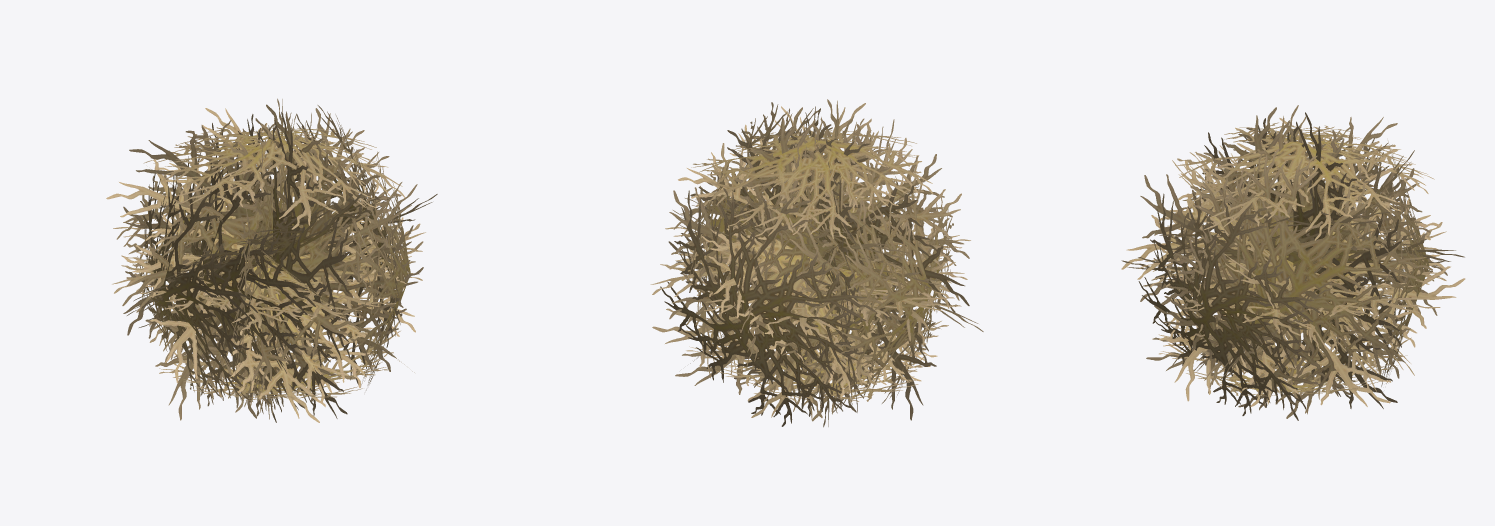
File: tumbleweed.fbx
The picture shows the model from 3 angles, left to right: view 1: azimuth 30°, elevation 25°; view 2: azimuth 150°, elevation 25°; view 3: azimuth 270°, elevation 25°; orthographic projection.
Visible parts, largest first — view 1: tumbleweed; view 2: tumbleweed; view 3: tumbleweed.
Part boxes in pixels (x1,y1,x2,y2): tumbleweed: [106, 98, 437, 422]; tumbleweed: [650, 99, 983, 427]; tumbleweed: [1121, 105, 1465, 420].
Bounding box in the file's own units: 693 × 694 × 693.
1 material, 1 textured.
